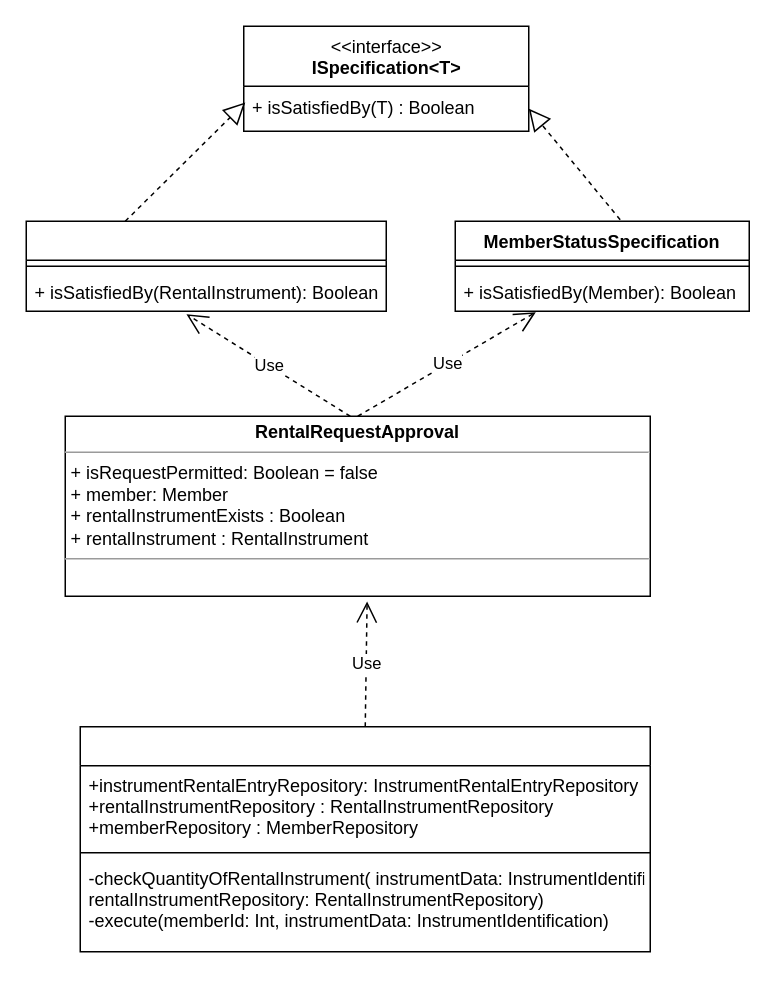
The diagram is 776 pixels wide and 983 high, and some of its shapes have lost their labels. Each missing label, with the box of its shape:
QuantitySpecification: (25, 220, 386, 311)
RentInstrument: (79, 725, 650, 952)
